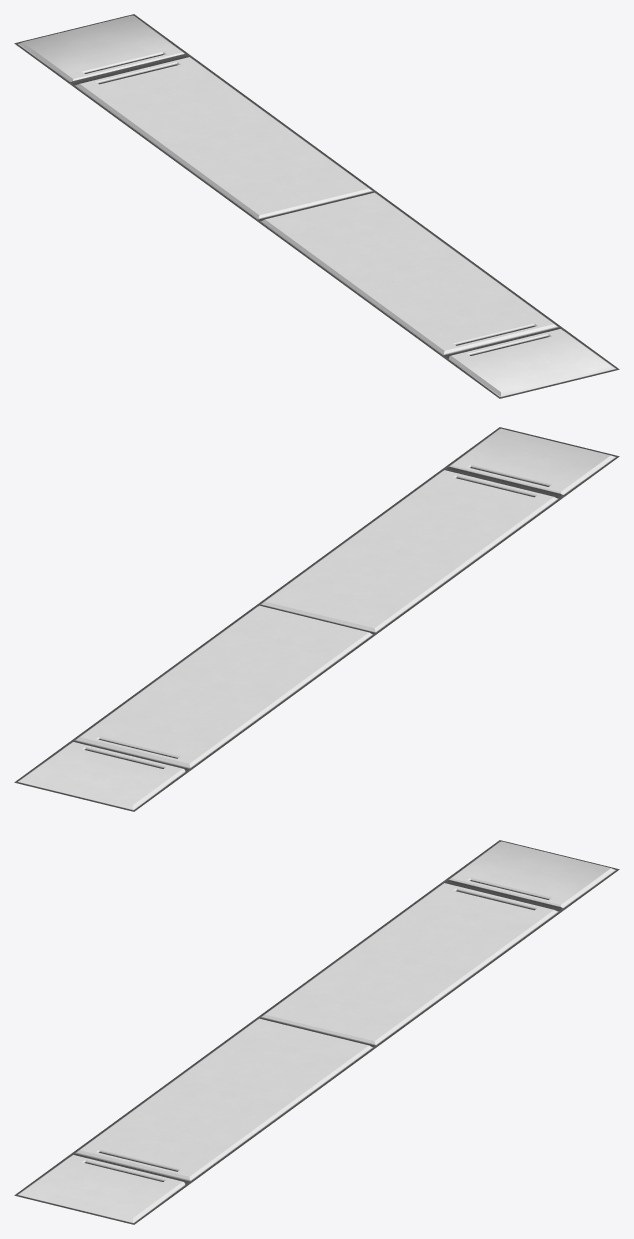
Rendered from SM_MFloor02-350x50-2.FBX.
3 views of the same model, one above another, from view 1: azimuth 30°, elevation 25°; view 2: azimuth 150°, elevation 25°; view 3: azimuth 330°, elevation 25° (orthographic).
Visible parts, largest first — view 1: SM_MFloor02-350x50-2; view 2: SM_MFloor02-350x50-2; view 3: SM_MFloor02-350x50-2.
Boxes of the visible parts, x1,y1,x2,y2 form: SM_MFloor02-350x50-2: [14, 14, 619, 398]; SM_MFloor02-350x50-2: [14, 427, 619, 811]; SM_MFloor02-350x50-2: [14, 840, 619, 1224].
Size of what is drawn, in the model's own units: 50 by 350 by 1.
